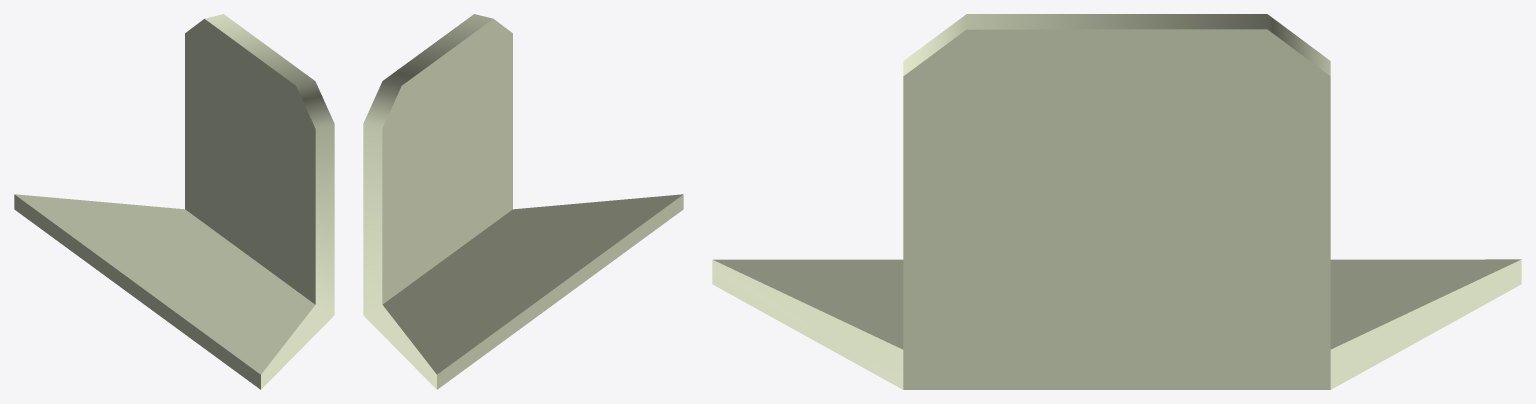
Rendered from cotf_TV_stand.FBX.
3 renders of one model, left to right at view 1: azimuth 30°, elevation 25°; view 2: azimuth 150°, elevation 25°; view 3: azimuth 270°, elevation 25°, orthographic. The views are drawn at different scales.
Visible parts, largest first — view 1: cotf_TV_stand; view 2: cotf_TV_stand; view 3: cotf_TV_stand.
Part boxes in pixels (box(x1,y1,x2,y2)): cotf_TV_stand: box(14, 14, 334, 389); cotf_TV_stand: box(363, 14, 683, 389); cotf_TV_stand: box(712, 14, 1521, 389).
Size of the model in its own units: 0.2001 by 0.3186 by 0.6479.
